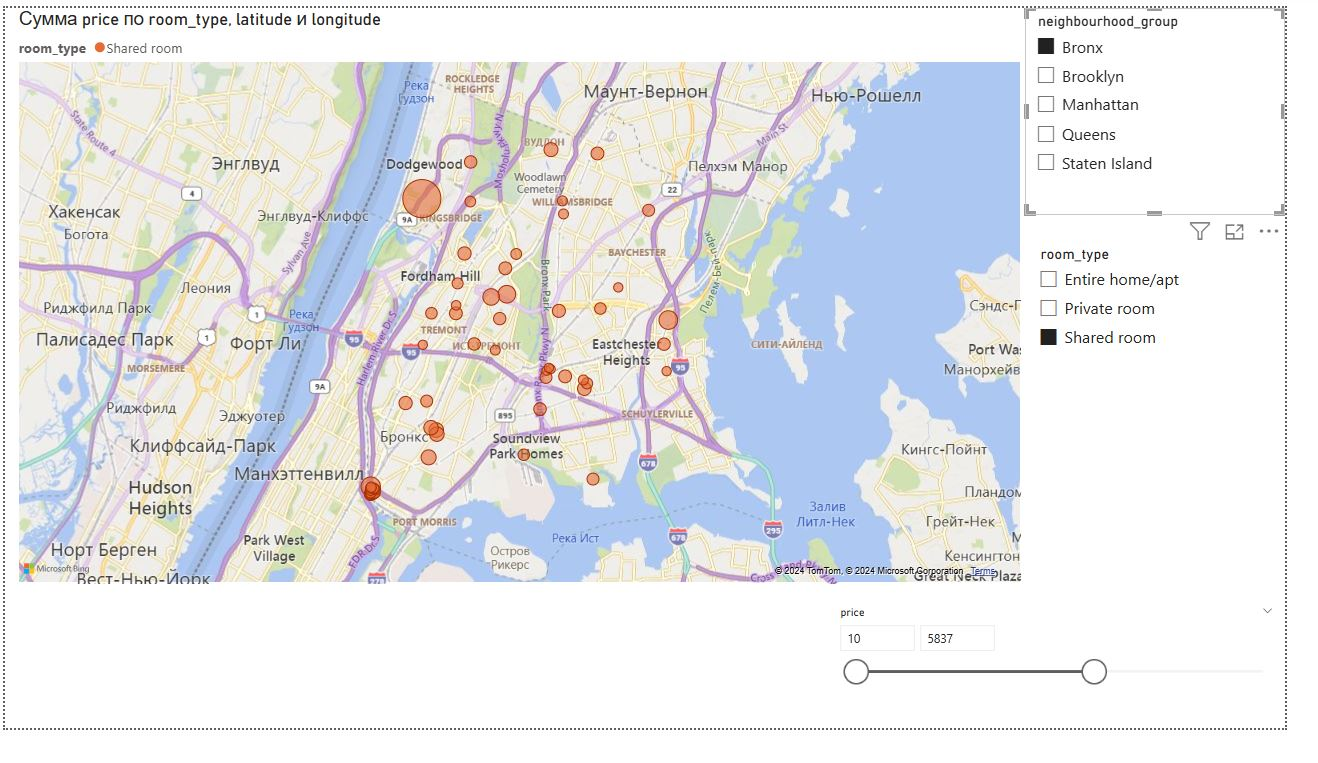

The page's visual inventory and layout, read from the dashboard file:
{"tool":"powerbi","page":{"name":"Map Visualization","canvas":[1280,720],"ordinal":0},"visuals":[{"type":"map","fields":{"Y":["AB_NYC_2019.latitude"],"X":["AB_NYC_2019.longitude"],"Series":["AB_NYC_2019.room_type"],"Size":["Sum(AB_NYC_2019.price)"]},"box":[8.8,0,1011.2,580],"z":0},{"type":"slicer","fields":{"Values":["AB_NYC_2019.room_type"]},"box":[1022.5,232.5,257.5,127.5],"z":1},{"type":"slicer","fields":{"Values":["AB_NYC_2019.neighbourhood_group"]},"box":[1020,0,260,207.5],"z":2},{"type":"slicer","fields":{"Values":["AB_NYC_2019.price"]},"box":[822.5,592.5,457.5,127.5],"z":3}]}

Visuals, with their boxes in screenshot pixels (x1, y1, x2, y2), scaled from the page's 1280x720 canvas onto the 1318x763 screenshot:
map - AB_NYC_2019.latitude x AB_NYC_2019.longitude: 9 0 1050 615
slicer - AB_NYC_2019.room_type: 1053 246 1317 382
slicer - AB_NYC_2019.neighbourhood_group: 1050 0 1317 220
slicer - AB_NYC_2019.price: 847 628 1317 762
